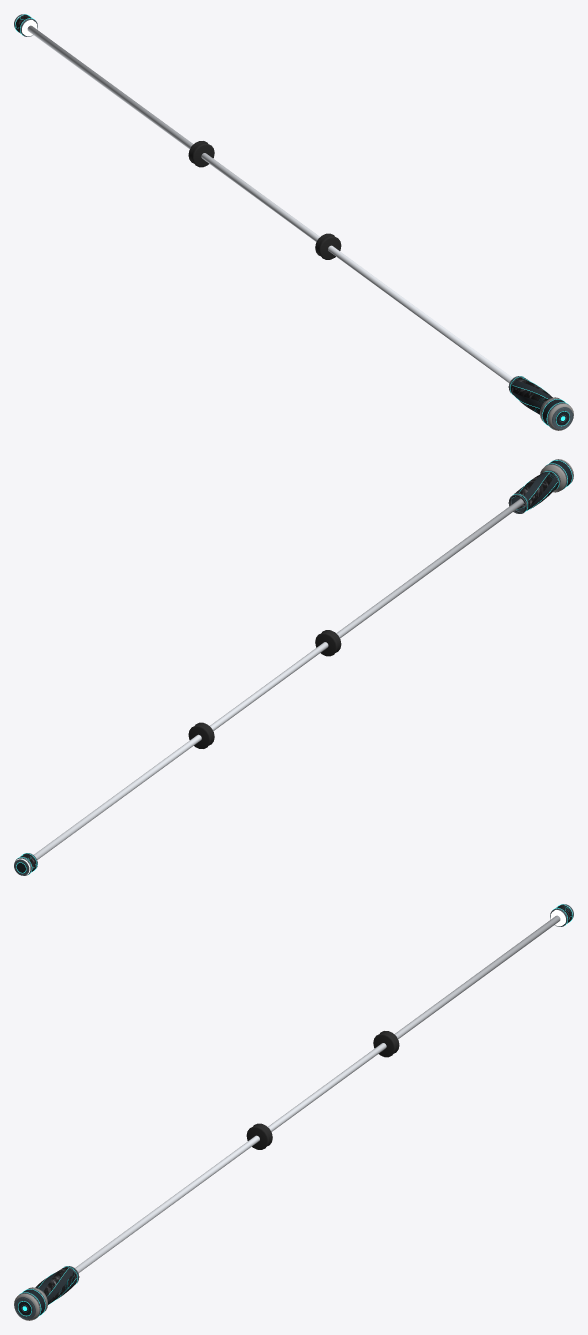
The model's file is fuzeball_rod_2man.glb.
The picture shows the model from 3 angles, top to bottom: view 1: azimuth 30°, elevation 25°; view 2: azimuth 150°, elevation 25°; view 3: azimuth 330°, elevation 25°; orthographic projection.
Visible parts, largest first — view 1: rod2_bar.002, rod2_handle_obsidian_grip, obsidian_hardware_1; view 2: rod2_bar.002, rod2_handle_obsidian_grip; view 3: rod2_bar.002, rod2_handle_obsidian_grip, obsidian_hardware_1.
Part boxes in pixels (box(x1,y1,x2,y2)): rod2_bar.002: box(27, 25, 512, 383); rod2_handle_obsidian_grip: box(508, 376, 552, 414); obsidian_hardware_1: box(14, 14, 573, 429); rod2_bar.002: box(34, 498, 524, 859); rod2_handle_obsidian_grip: box(508, 471, 560, 513); rod2_bar.002: box(75, 915, 560, 1273); rod2_handle_obsidian_grip: box(35, 1266, 79, 1304); obsidian_hardware_1: box(14, 904, 573, 1319).
Size of the model in its own units: 3.51 by 3.51 by 128.
9 materials, 1 textured.
